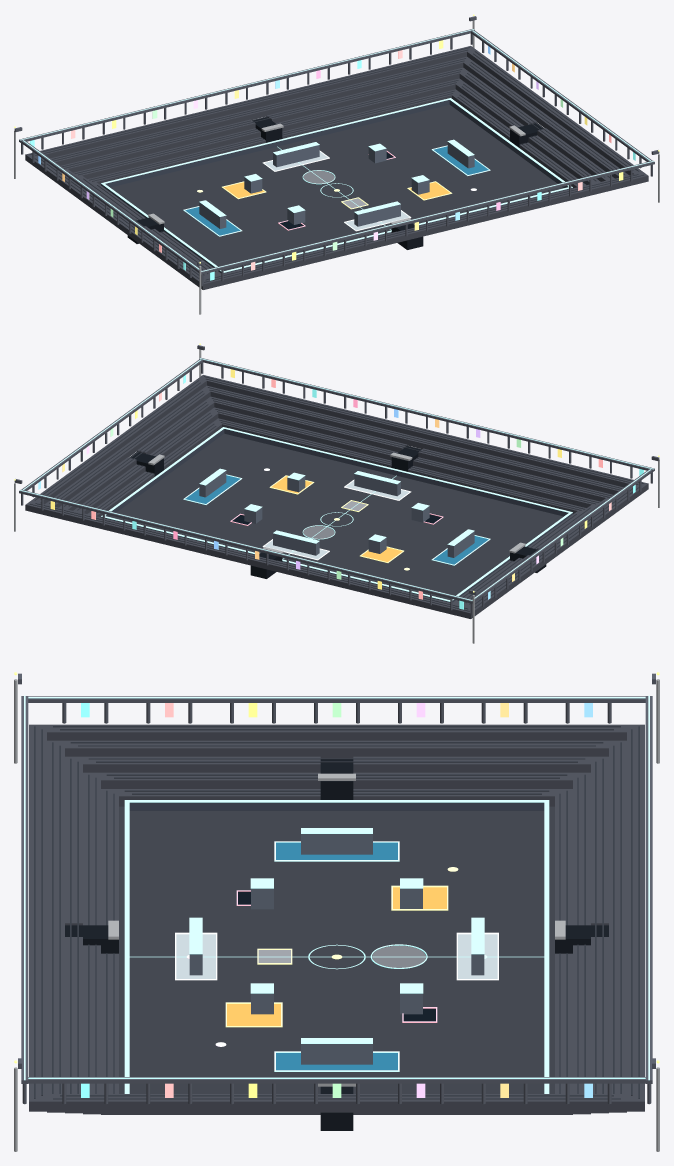
File: arena_colosseum.glb
3 views of the same model, one above another, from view 1: azimuth 30°, elevation 25°; view 2: azimuth 150°, elevation 25°; view 3: azimuth 270°, elevation 25° (orthographic). The views are drawn at different scales.
Visible parts, largest first — view 1: Stands, Floor, Seats, Lintel, Kerbs, Walls, Colonnade, KerbGlow, Gates, Banners, WallTrim, Hazard_water (+3 smaller); view 2: Stands, Floor, Seats, Lintel, Kerbs, Walls, Colonnade, KerbGlow, Gates, Banners, WallTrim, Hazard_water (+3 smaller); view 3: Stands, Floor, Seats, Lintel, Walls, KerbGlow, Gates, Kerbs, WallTrim, Colonnade, Hazard_water, Hazard_ice (+7 smaller).
Part boxes in pixels (x1,y1,x2,y2): Stands: [25, 46, 648, 289]; Floor: [110, 104, 563, 270]; Seats: [29, 47, 643, 282]; Lintel: [19, 29, 654, 274]; Kerbs: [101, 100, 572, 273]; Walls: [199, 142, 474, 228]; Colonnade: [21, 33, 652, 286]; KerbGlow: [101, 98, 572, 272]; Gates: [127, 117, 544, 249]; Banners: [30, 40, 635, 280]; WallTrim: [199, 139, 474, 216]; Hazard_water: [185, 146, 488, 235]; Stands: [25, 375, 648, 618]; Floor: [110, 433, 563, 599]; Seats: [30, 376, 644, 611]; Lintel: [19, 358, 654, 603]; Kerbs: [101, 429, 572, 602]; Walls: [199, 471, 474, 557]; Colonnade: [21, 362, 652, 615]; KerbGlow: [101, 427, 572, 601]; Gates: [129, 446, 546, 578]; Banners: [38, 369, 643, 609]; WallTrim: [199, 468, 474, 545]; Hazard_water: [185, 475, 488, 564]; Stands: [29, 724, 644, 1114]; Floor: [119, 806, 554, 1093]; Seats: [34, 726, 639, 1099]; Lintel: [21, 695, 652, 1083]; Walls: [189, 834, 484, 1064]; KerbGlow: [124, 800, 549, 1093]; Gates: [65, 759, 608, 1130]; Kerbs: [129, 802, 544, 810]; WallTrim: [189, 828, 484, 1043]; Colonnade: [22, 703, 651, 1104]; Hazard_water: [276, 842, 397, 1070]; Hazard_ice: [176, 934, 497, 978].
Bounding box in the file's own units: 257 × 28.35 × 180.
